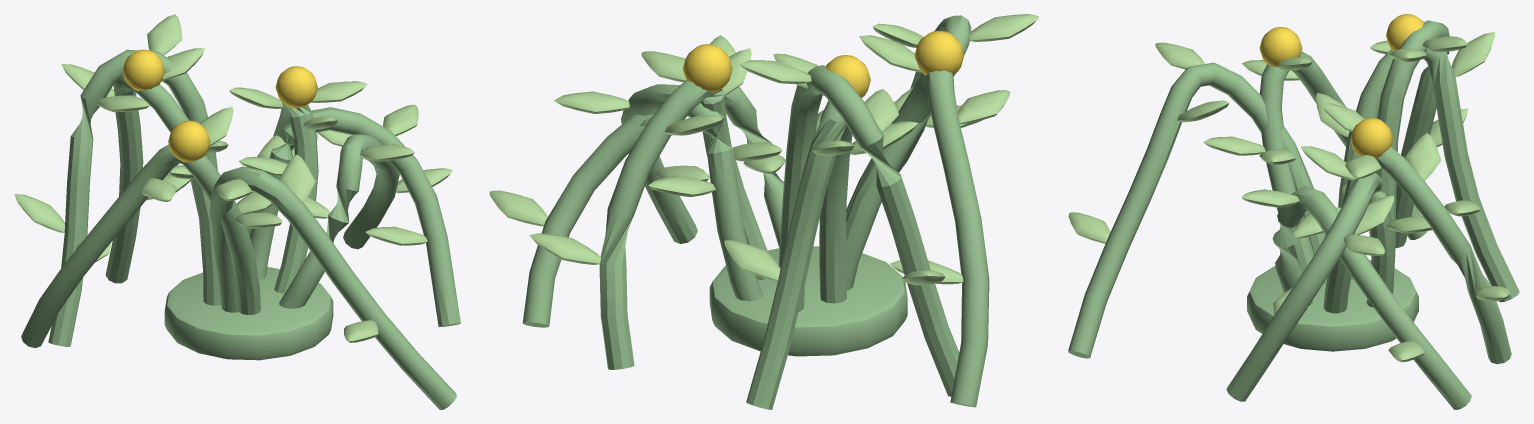
The model's file is SM_IncVines.fbx.
3 renders of one model, left to right at view 1: azimuth 30°, elevation 25°; view 2: azimuth 150°, elevation 25°; view 3: azimuth 270°, elevation 25°, orthographic. The views are drawn at different scales.
Parts seen in each view (by area): view 1: IncVines; view 2: IncVines; view 3: IncVines.
Boxes of the visible parts, box(x1,y1,x2,y2) form: IncVines: box(14, 14, 460, 409); IncVines: box(489, 14, 1039, 409); IncVines: box(1068, 14, 1519, 409).
Size of the model in its own units: 0.9175 by 0.5705 by 0.8411.
